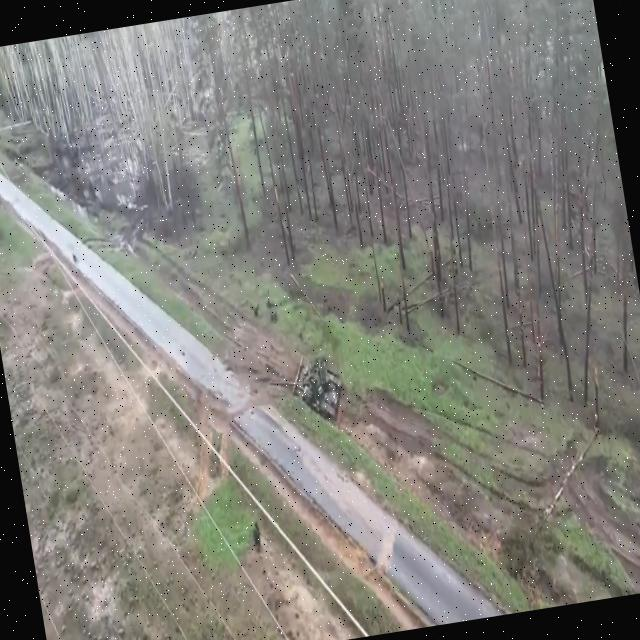MBT: (266, 353, 351, 434)
